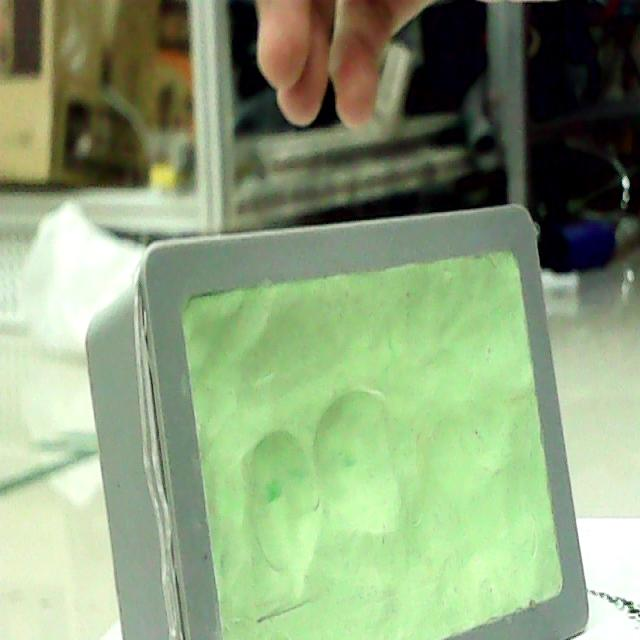block: (93, 204, 584, 640)
